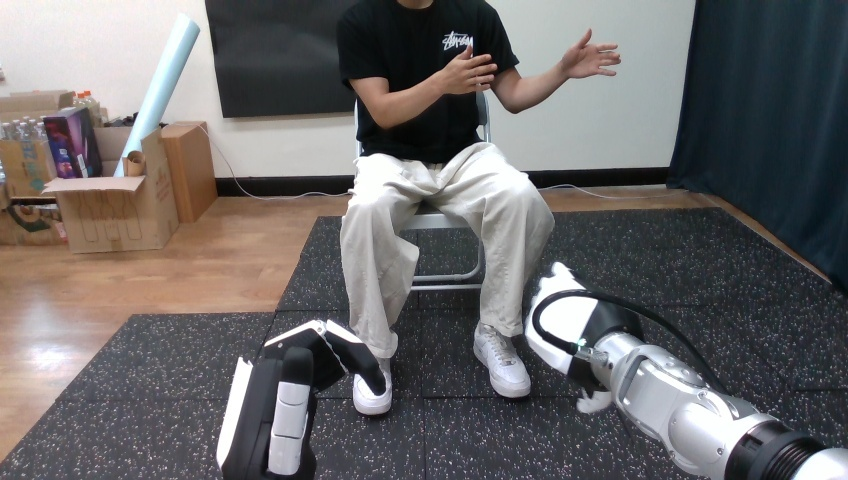left robot hand: (525, 262, 847, 479), (217, 320, 389, 479), (557, 29, 620, 77), (439, 45, 496, 94)
